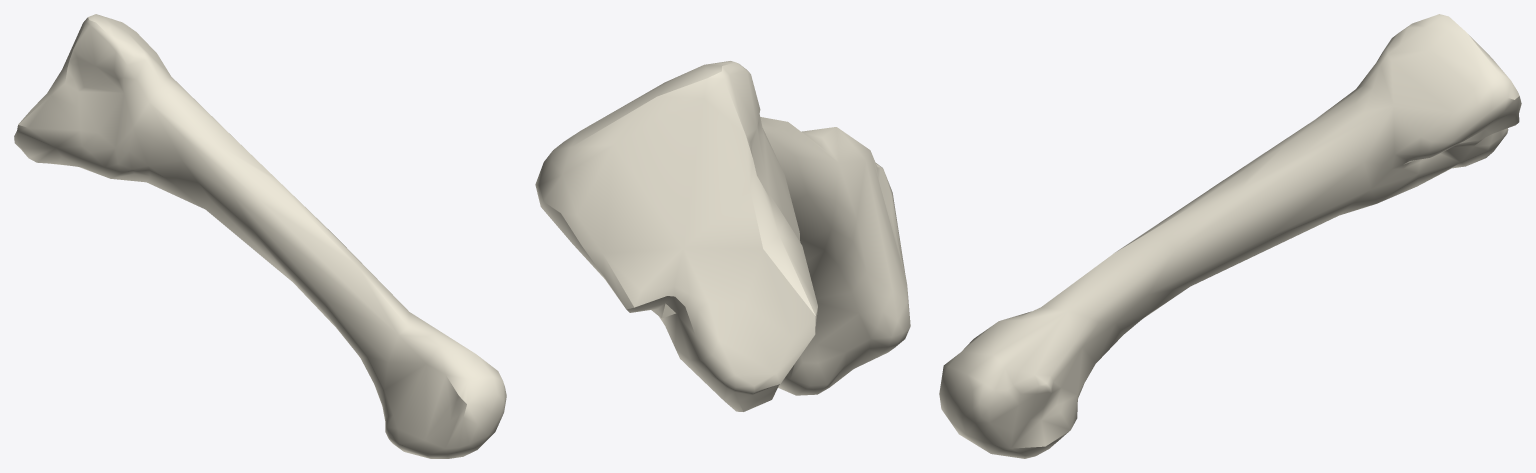
File: fma24512_fj3247.glb
The picture shows the model from 3 angles, left to right: view 1: azimuth 30°, elevation 25°; view 2: azimuth 150°, elevation 25°; view 3: azimuth 270°, elevation 25°; orthographic projection. The views are drawn at different scales.
Visible parts, largest first — view 1: FMA24512_FJ3247; view 2: FMA24512_FJ3247; view 3: FMA24512_FJ3247.
Part boxes in pixels (box(x1,y1,x2,y2)): FMA24512_FJ3247: box(14, 14, 506, 458); FMA24512_FJ3247: box(535, 61, 910, 411); FMA24512_FJ3247: box(939, 14, 1521, 458).
Size of the model in its own units: 0.0353 by 0.0428 by 0.0627.
